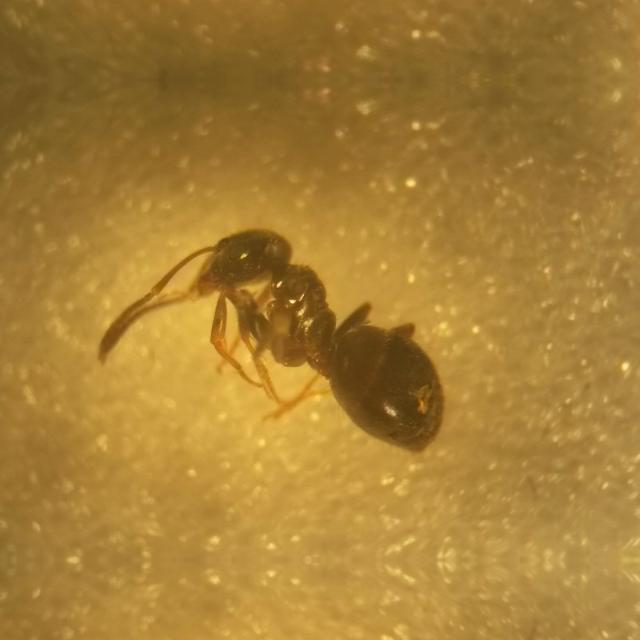Lasius: (152, 198, 464, 474)
